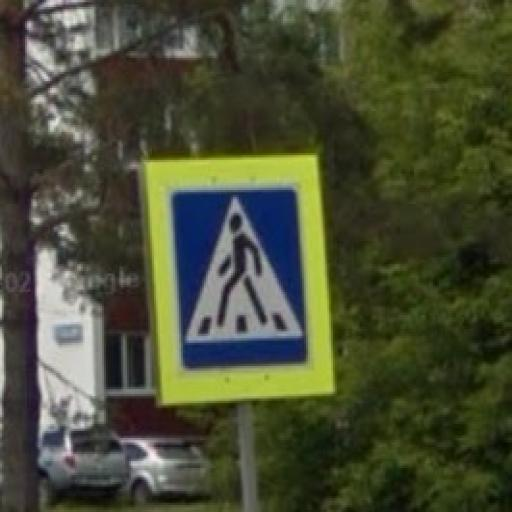traffic_sign: (134, 152, 340, 411)
